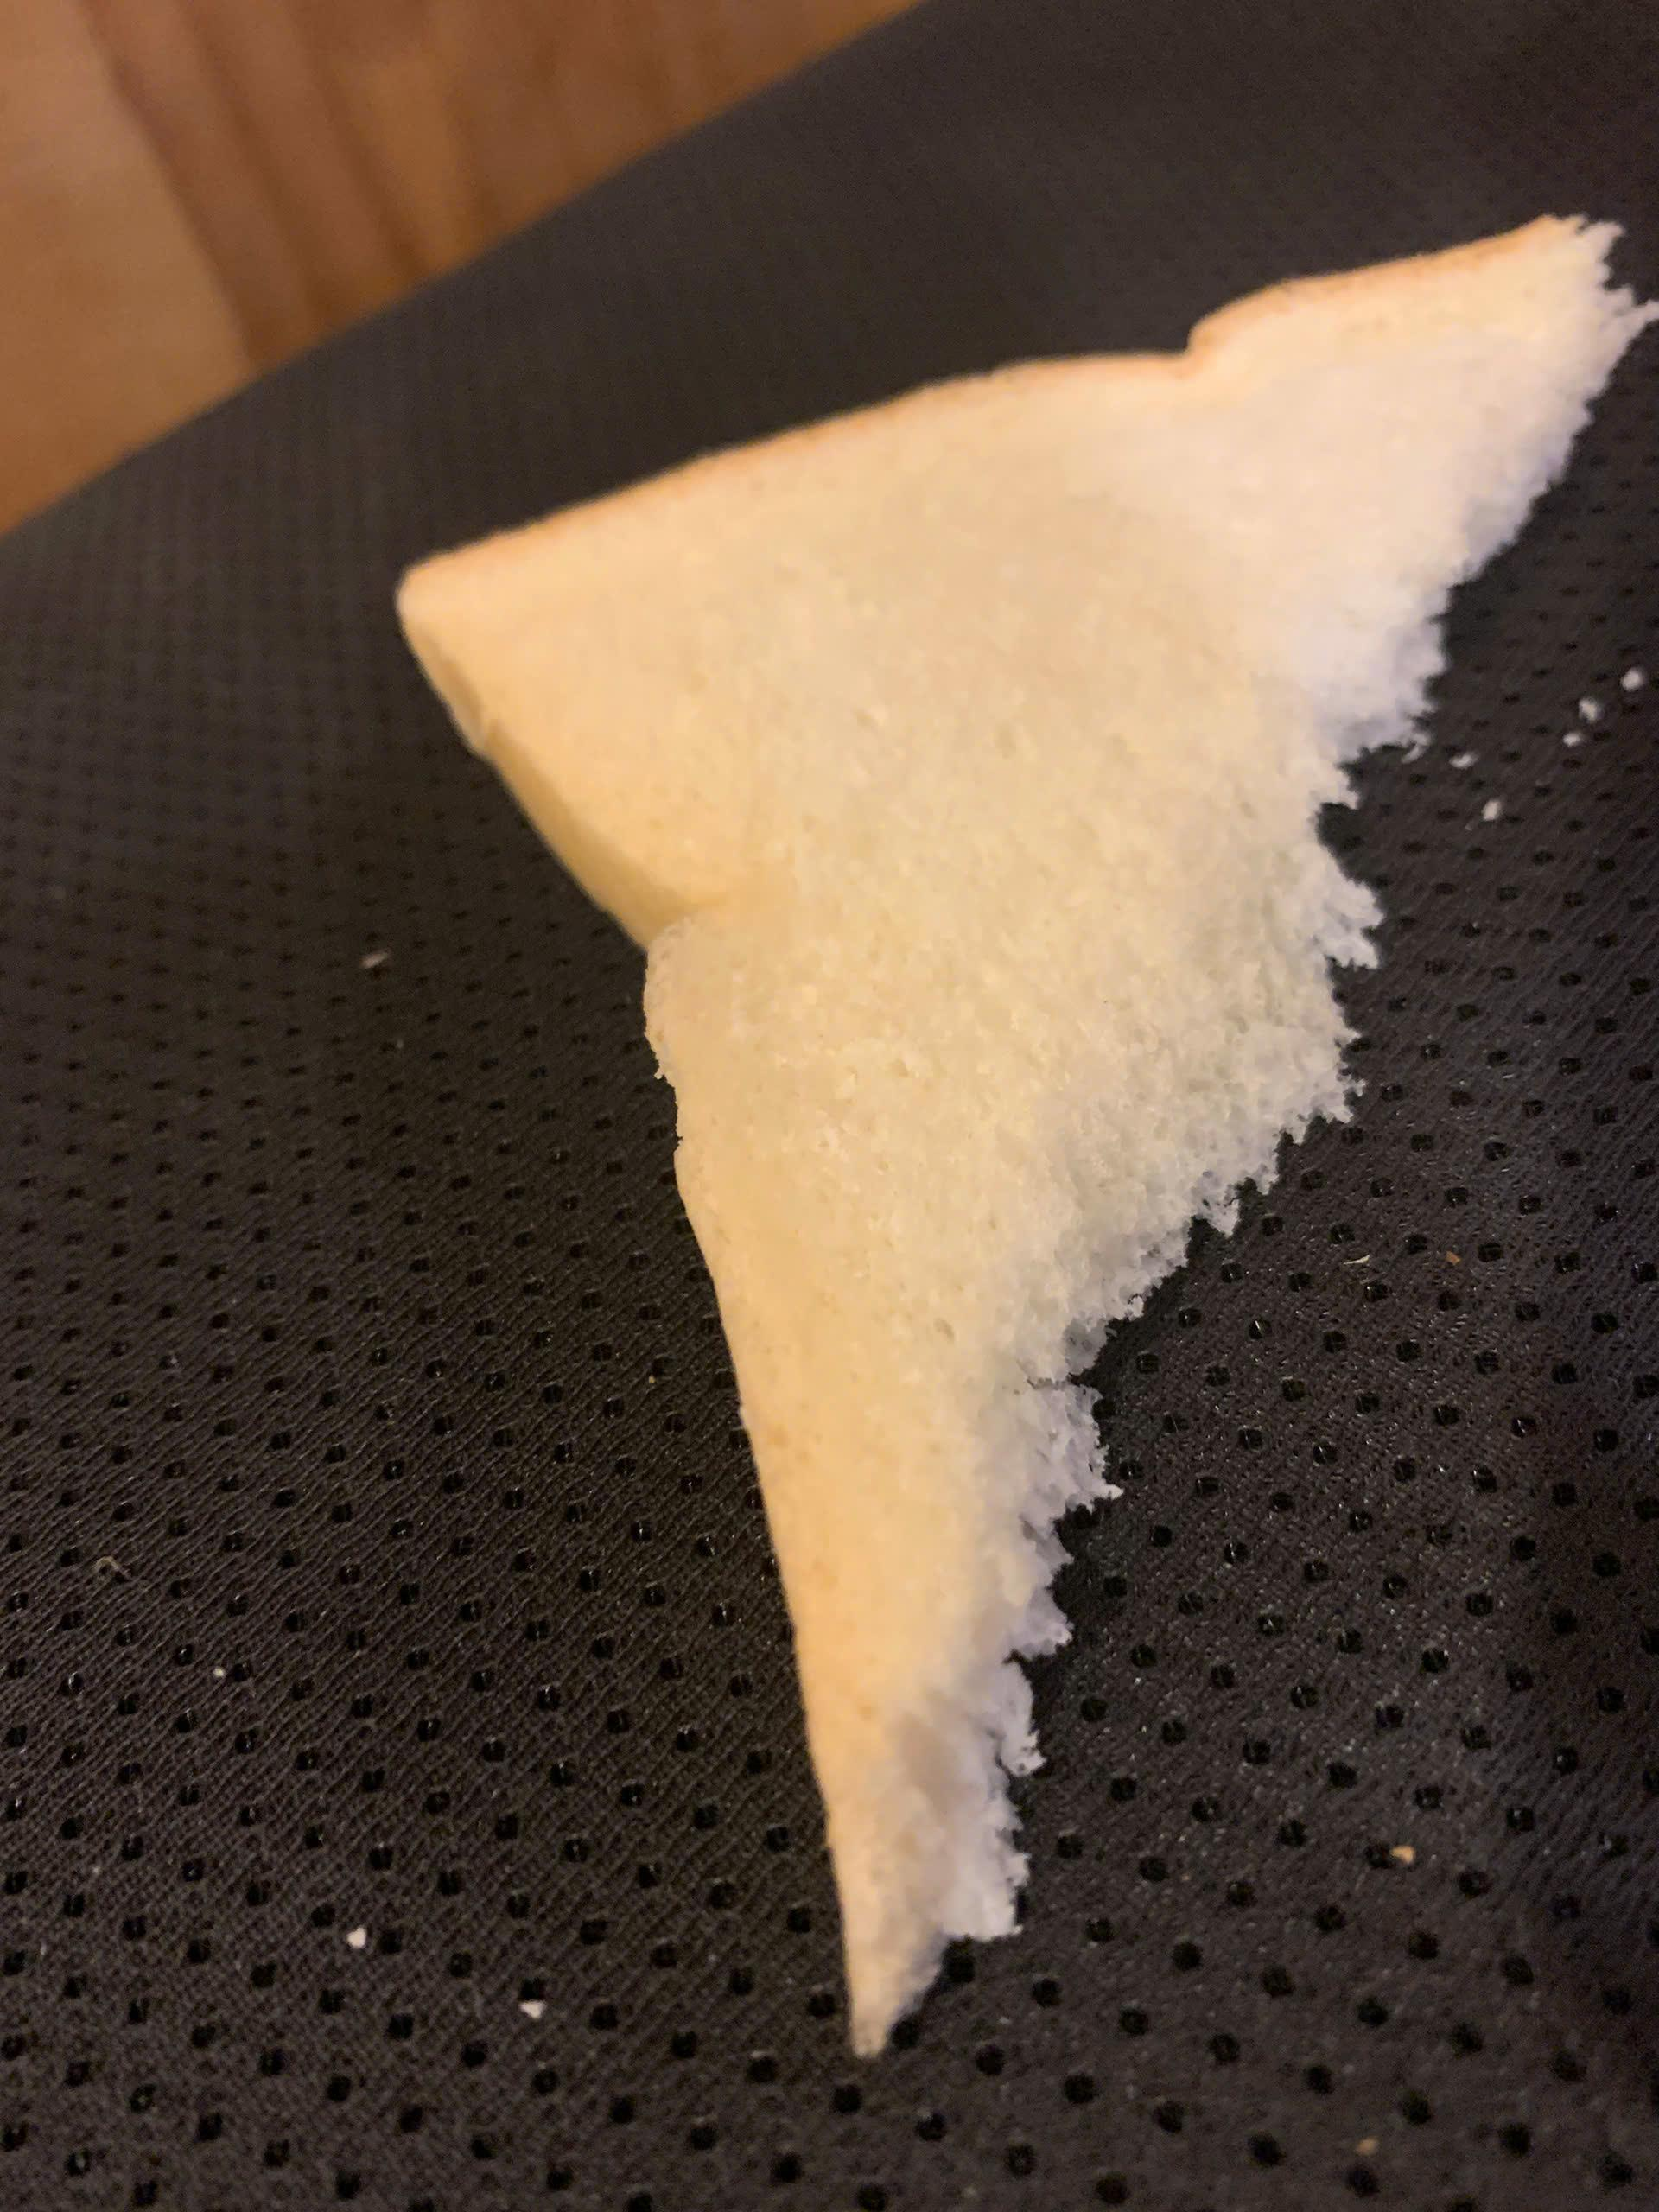Huu co: (403, 212, 1589, 2003)
